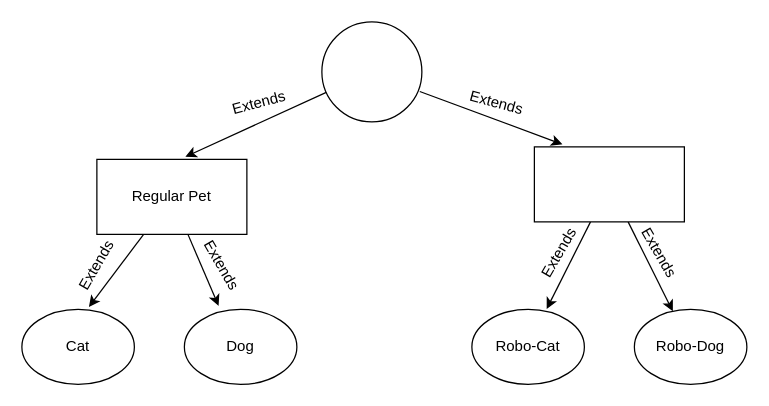
Some shapes in this 769 by 406 pixel diagram are drawn without their labels. The shapes that lost their labels are listed below. From the top down, each one's centre as x and y in pixels, then its label:
At (371,71): "Pet".
At (608,184): "Robo-pet".
